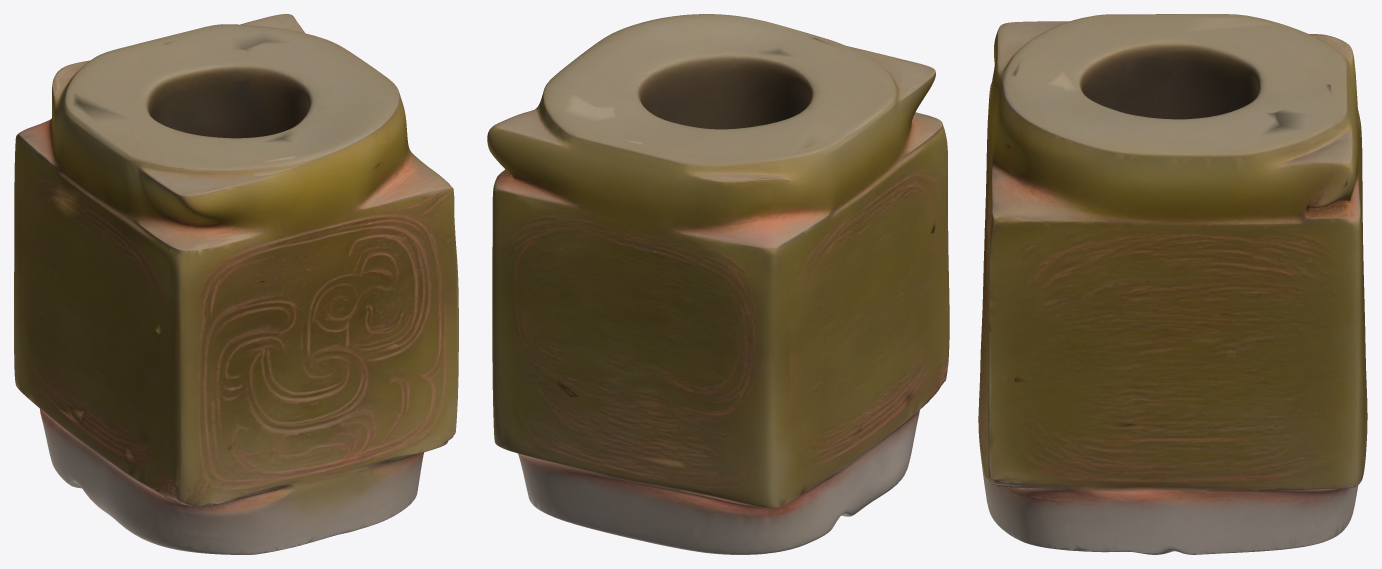
Rendered from zhangjiapo-bird-detail.glb.
The picture shows the model from 3 angles, left to right: view 1: azimuth 30°, elevation 25°; view 2: azimuth 150°, elevation 25°; view 3: azimuth 270°, elevation 25°; orthographic projection. The views are drawn at different scales.
Parts seen in each view (by area): view 1: node_0; view 2: node_0; view 3: node_0.
Part boxes in pixels (x1=…): node_0: x1=14, y1=14, x2=458, y2=554; node_0: x1=487, y1=14, x2=949, y2=554; node_0: x1=978, y1=14, x2=1367, y2=554.
Bounding box in the file's own units: 0.6721 × 0.8453 × 0.7243.
1 material, 1 textured.
